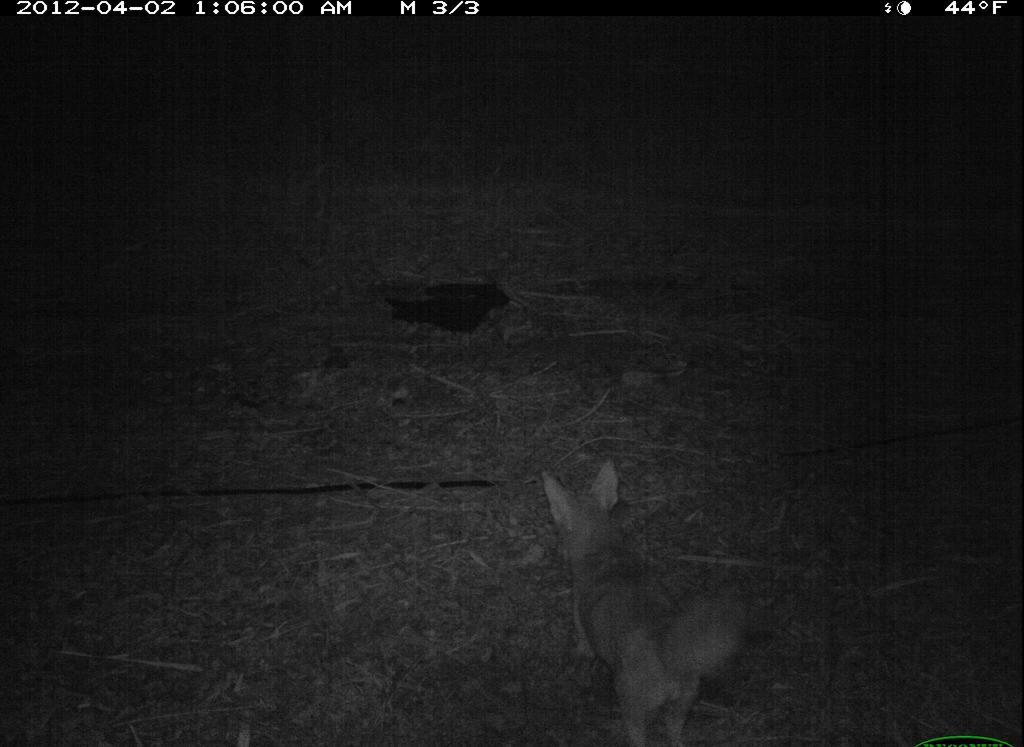coyote: (514, 425, 744, 744)
